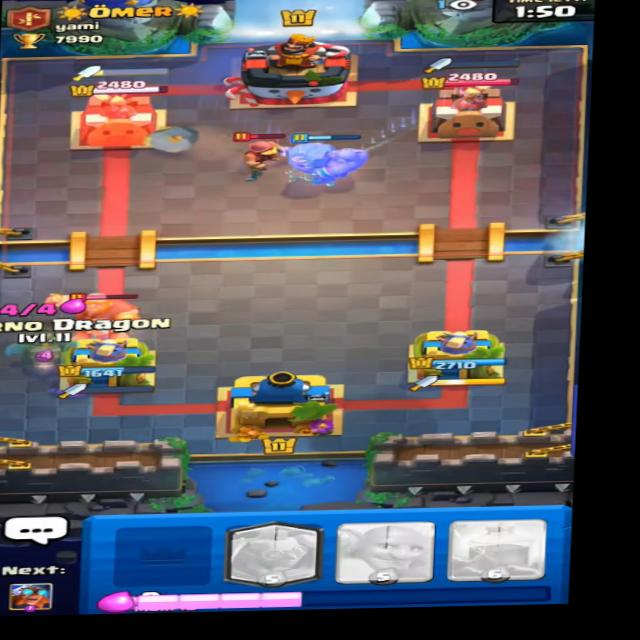Fisherman: (227, 128, 291, 174)
Giant: (43, 287, 170, 351)
